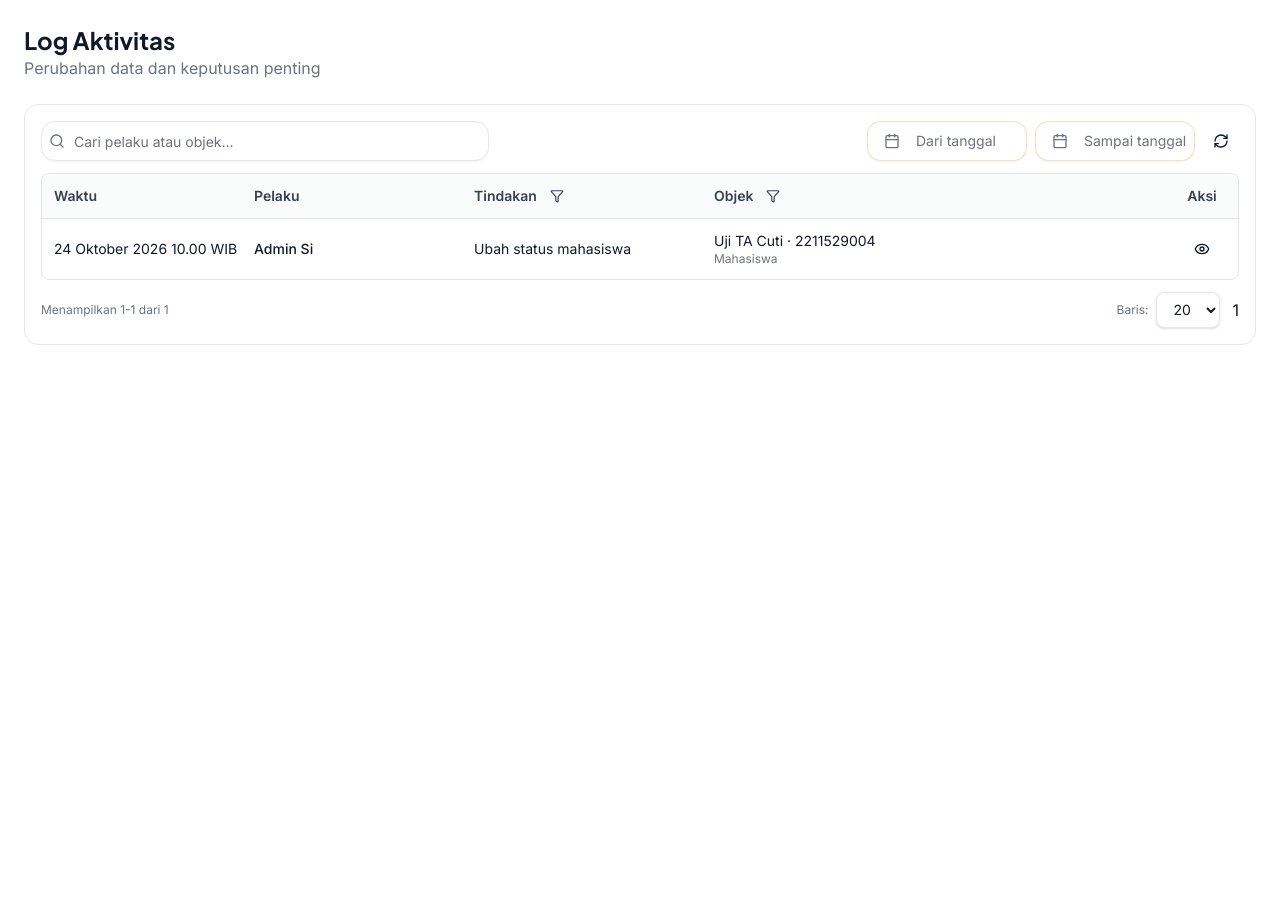
it: Log Aktivitas › shows the change as label, before and after, not as raw JSON
This screenshot has width=1280, height=900.
Click the button named "Lihat Detail": (1202,248) [1186,232,1218,264]
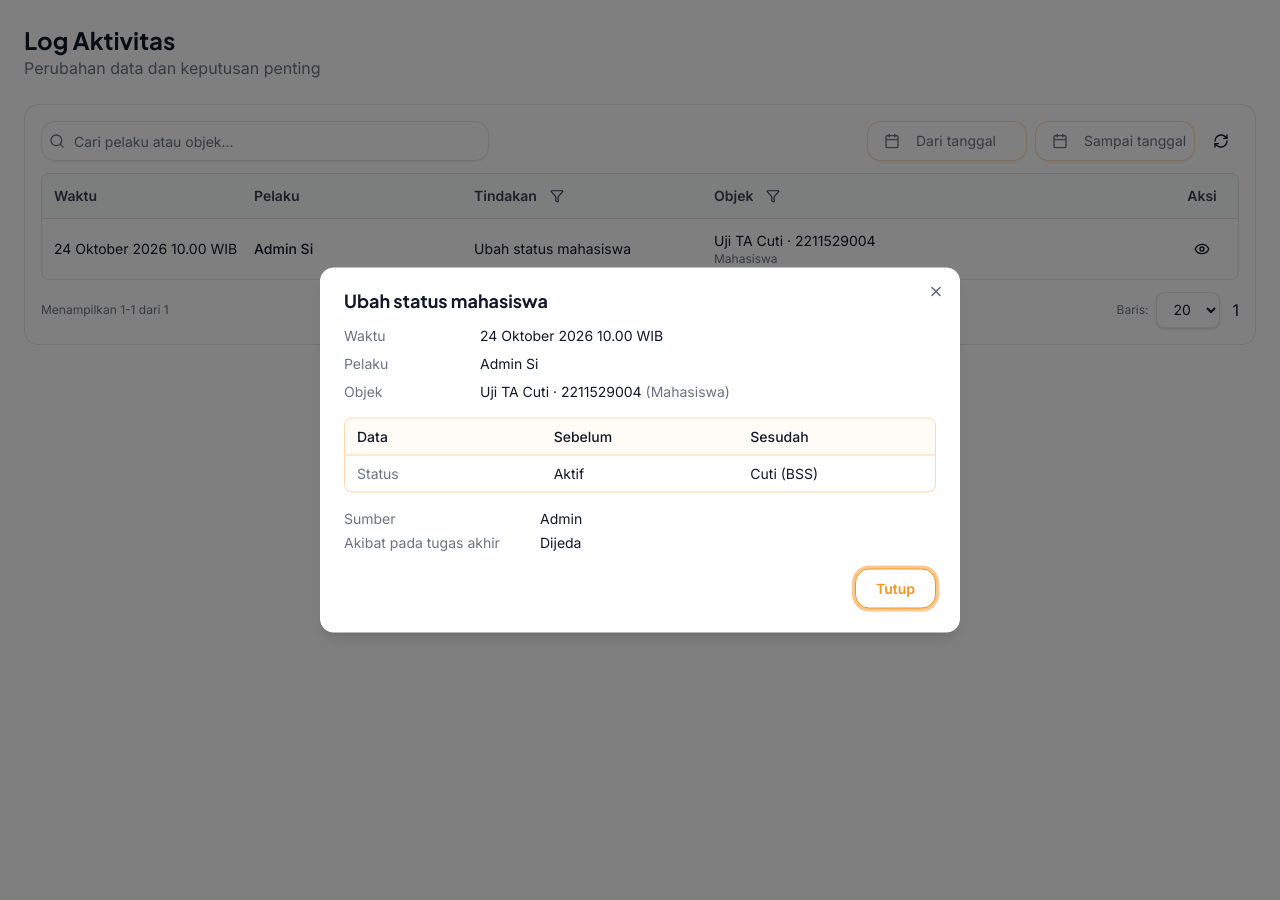
expect the rows read "DataSebelumSesudah", "StatusAktifCuti (BSS)", in this order: met, box [345,418,935,455]; [345,455,935,492]
expect the text "Akibat pada tugas akhir" is shown: met, box [344,532,524,552]
expect the text "Dijeda" is shown: met, box [540,534,582,550]
